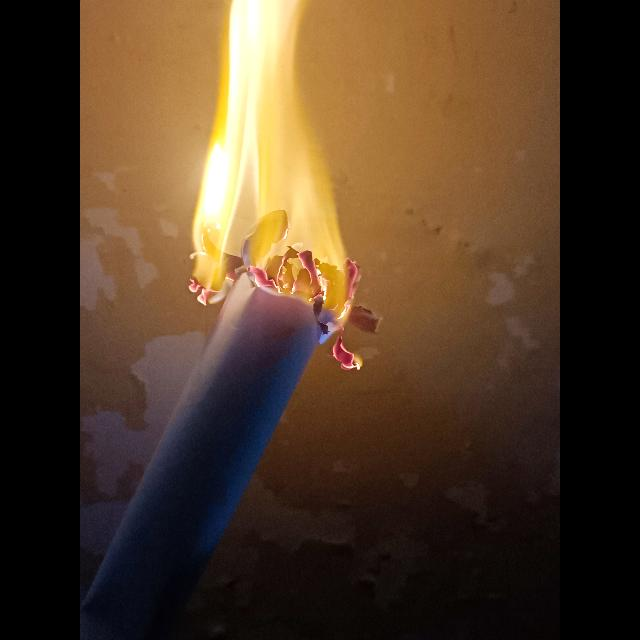fire: (190, 0, 380, 370)
